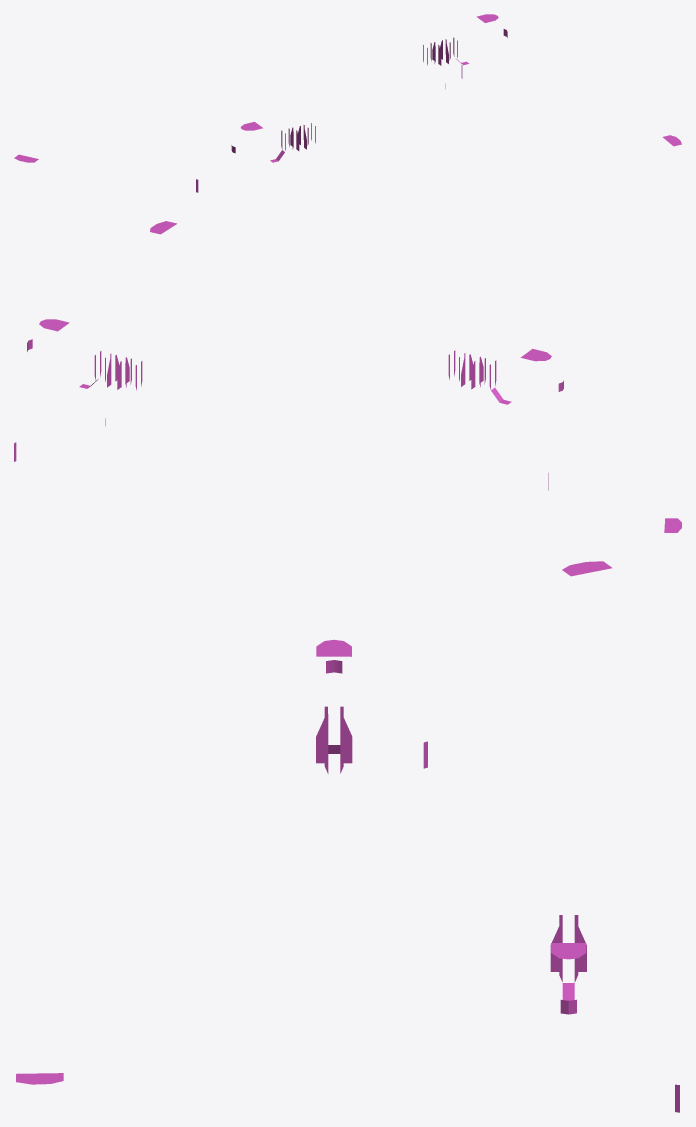
The model's file is cluster9.fbx.
The picture shows the model from 3 angles, top to bottom: view 1: azimuth 30°, elevation 25°; view 2: azimuth 150°, elevation 25°; view 3: azimuth 270°, elevation 25°; orthographic projection. The views are drawn at different scales.
Visible parts, largest first — view 1: cluster9; view 2: cluster9; view 3: cluster9.
Part boxes in pixels (box(x1,y1,x2,y2)): cluster9: box(14, 14, 681, 192); cluster9: box(14, 221, 681, 532); cluster9: box(16, 561, 679, 1112).
Size of the model in its own units: 1186900 by 188370 by 651013.
